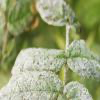Squash Powdery mildew leaf: (2, 70, 63, 99), (10, 46, 67, 76), (36, 0, 83, 34), (67, 37, 99, 80), (61, 81, 92, 99)
